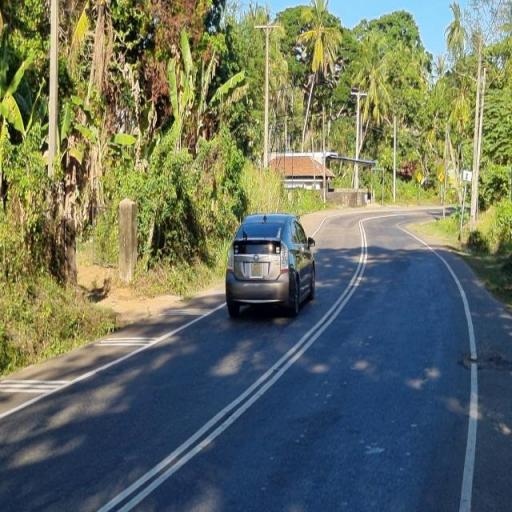double_white_line: (98, 216, 370, 512)
